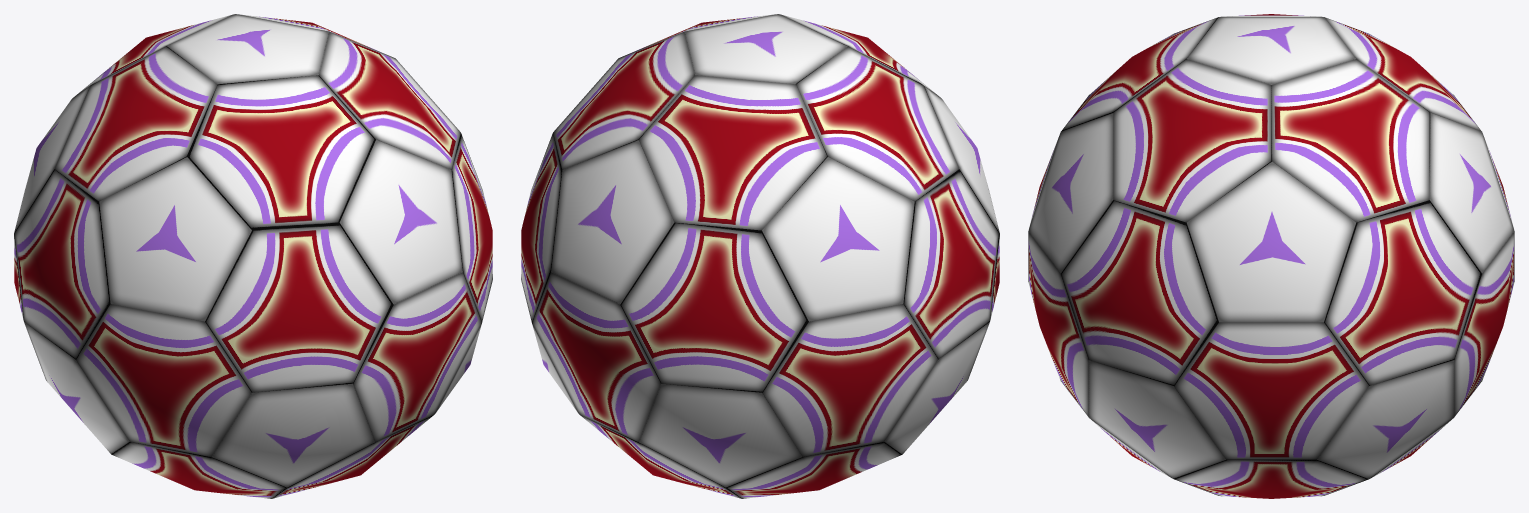
File: Ball3.FBX
The picture shows the model from 3 angles, left to right: view 1: azimuth 30°, elevation 25°; view 2: azimuth 150°, elevation 25°; view 3: azimuth 270°, elevation 25°; orthographic projection.
Parts seen in each view (by area): view 1: Ball3; view 2: Ball3; view 3: Ball3.
Part boxes in pixels (x1,y1,x2,y2): Ball3: [14, 14, 492, 498]; Ball3: [521, 14, 999, 498]; Ball3: [1028, 14, 1514, 498].
Bounding box in the file's own units: 47.91 × 48.62 × 47.79.
